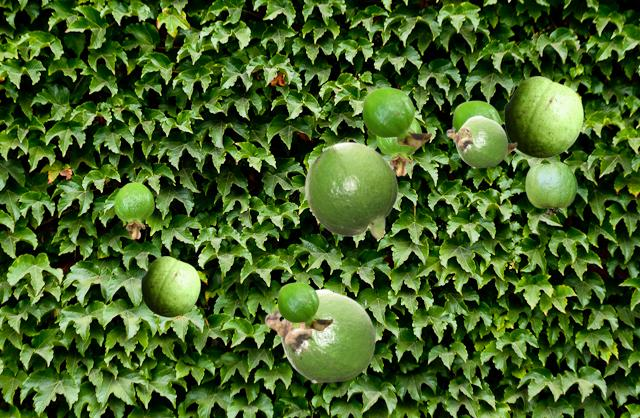guava: (264, 288, 375, 382), (304, 141, 397, 239), (504, 76, 582, 157), (362, 87, 431, 147), (452, 100, 516, 156), (141, 256, 199, 316), (446, 115, 507, 167), (525, 162, 576, 214), (277, 282, 332, 330), (376, 118, 421, 175), (114, 182, 153, 238)
